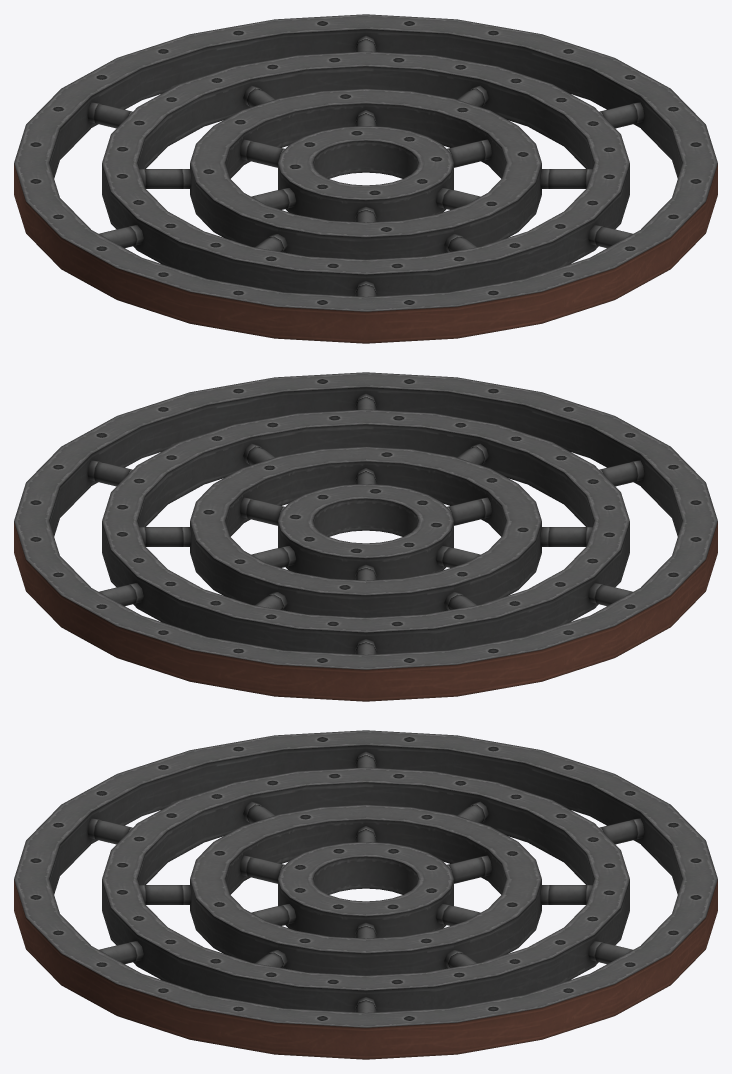
Rendered from canopus_fairing_s2_1.obj.
The picture shows the model from 3 angles, top to bottom: view 1: azimuth 30°, elevation 25°; view 2: azimuth 150°, elevation 25°; view 3: azimuth 270°, elevation 25°; orthographic projection.
Visible parts, largest first — view 1: mesh1; view 2: mesh1; view 3: mesh1.
Boxes of the visible parts, box(x1,y1,x2,y2) form: mesh1: box(14, 14, 717, 343); mesh1: box(14, 372, 717, 701); mesh1: box(14, 730, 717, 1059).
Bounding box in the file's own units: 2.5 × 0.125 × 2.5.
Materials: 1 (1 with a texture image).
